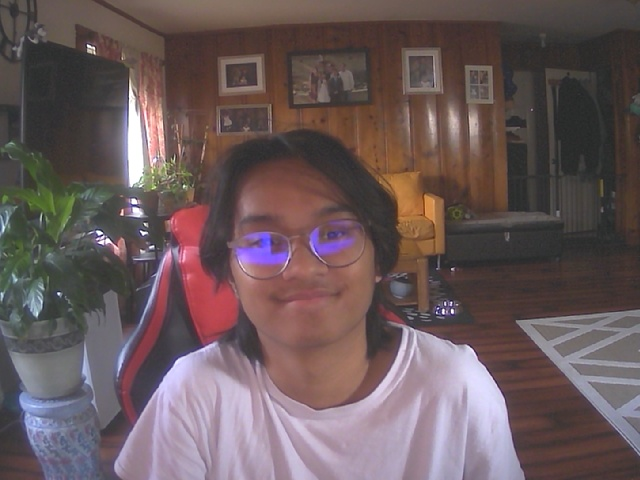happy: (222, 141, 388, 350)
